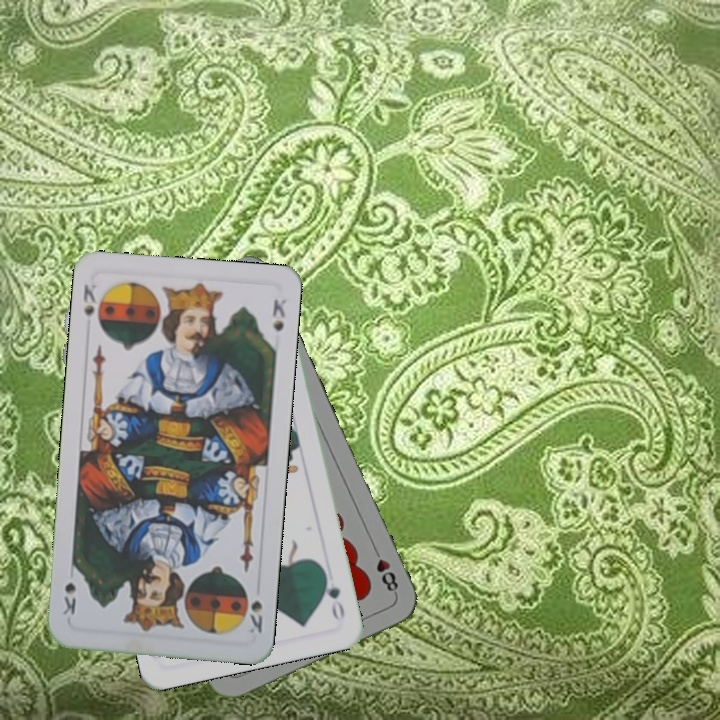GO: (319, 567, 348, 623)
H8: (368, 542, 401, 598)
SK: (79, 280, 99, 321), (245, 596, 265, 636)
